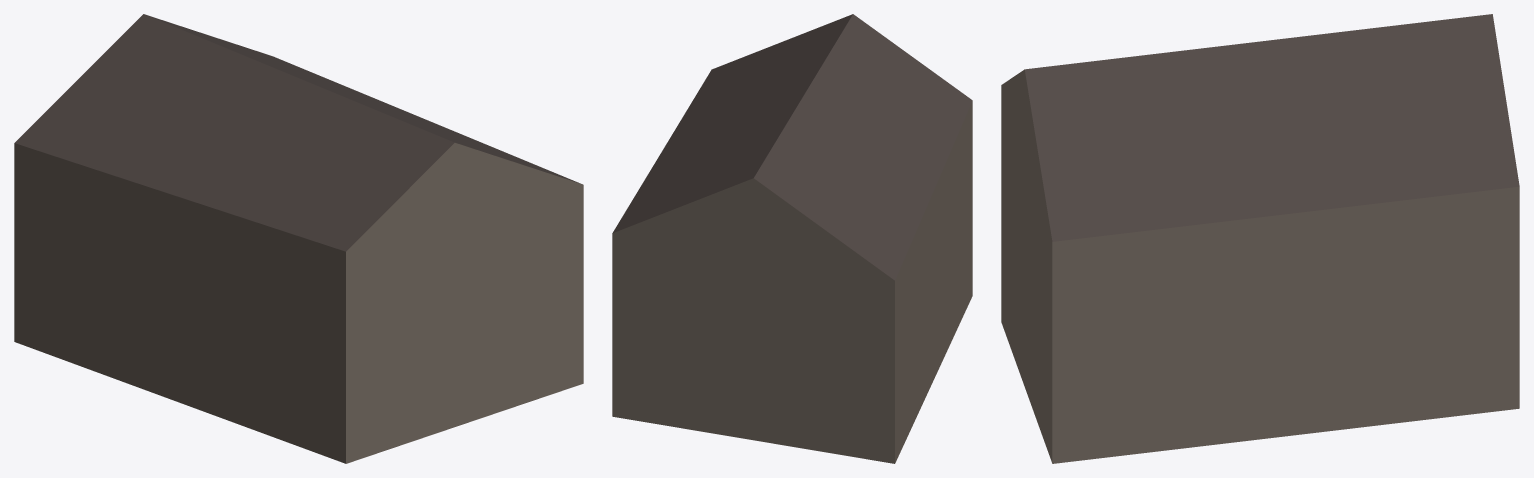
The picture shows the model from 3 angles, left to right: view 1: azimuth 30°, elevation 25°; view 2: azimuth 150°, elevation 25°; view 3: azimuth 270°, elevation 25°; orthographic projection. The views are drawn at different scales.
Visible parts, largest first — view 1: HP-w1516161966; view 2: HP-w1516161966; view 3: HP-w1516161966.
Part boxes in pixels (<box>): HP-w1516161966: <box>14,14,583,463</box>; HP-w1516161966: <box>612,14,972,463</box>; HP-w1516161966: <box>1001,14,1519,463</box>.
Size of the model in its own units: 12.13 by 8.58 by 12.69.
